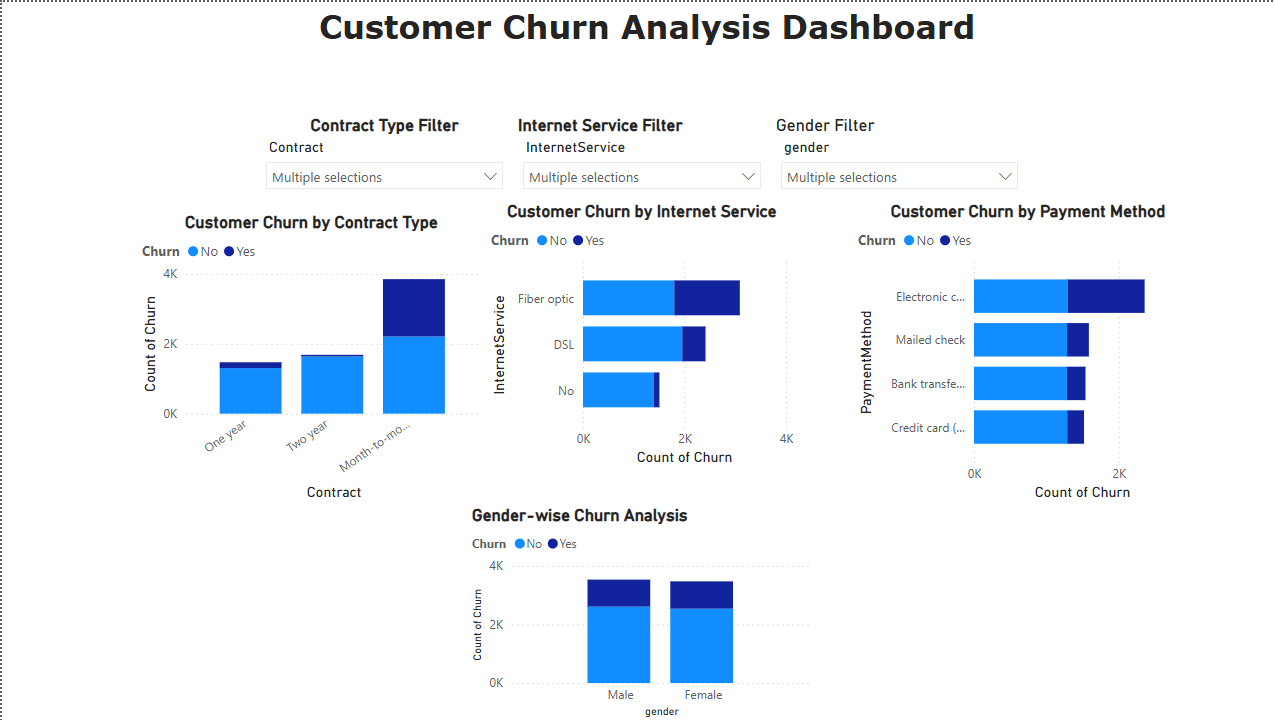

This screenshot's page, from the dashboard's own definition file:
{"tool":"powerbi","page":{"name":"Churn Analysis Dashboard","canvas":[1280,720],"ordinal":1},"visuals":[{"type":"textbox","box":[10,0,1270,51.2],"z":0},{"type":"slicer","title":"Contract Type Filter","fields":{"Values":["Churn_Dashboard_Data.Contract"]},"box":[253.8,112.5,257.5,195],"z":1000},{"type":"slicer","title":"Internet Service Filter","fields":{"Values":["Churn_Dashboard_Data.InternetService"]},"box":[511.2,112.5,257.5,195],"z":2000},{"type":"slicer","title":"Gender Filter","fields":{"Values":["Churn_Dashboard_Data.gender"]},"box":[768.8,112.5,257.5,195],"z":3000},{"type":"columnChart","title":"Customer Churn by Contract Type","fields":{"Category":["Churn_Dashboard_Data.Contract"],"Y":["CountNonNull(Churn_Dashboard_Data.Churn)"],"Series":["Churn_Dashboard_Data.Churn"]},"box":[135,210,348.8,292.5],"z":4000},{"type":"barChart","title":"Customer Churn by Internet Service","fields":{"Category":["Churn_Dashboard_Data.InternetService"],"Y":["CountNonNull(Churn_Dashboard_Data.Churn)"],"Series":["Churn_Dashboard_Data.Churn"]},"box":[483.8,198.8,312.5,268.8],"z":5000},{"type":"barChart","title":"Customer Churn by Payment Method","fields":{"Category":["Churn_Dashboard_Data.PaymentMethod"],"Y":["CountNonNull(Churn_Dashboard_Data.Churn)"],"Series":["Churn_Dashboard_Data.Churn"]},"box":[851.2,198.8,350,303.8],"z":6000},{"type":"columnChart","title":"Gender-wise Churn Analysis","fields":{"Category":["Churn_Dashboard_Data.gender"],"Y":["CountNonNull(Churn_Dashboard_Data.Churn)"],"Series":["Churn_Dashboard_Data.Churn"]},"box":[465,502.5,348.8,217.5],"z":7000}]}

Visuals, with their boxes in screenshot pixels (x1, y1, x2, y2), scaled from the page's 1280x720 canvas onto the 1275x720 screenshot:
textbox: (10, 0, 1274, 51)
"Contract Type Filter" slicer: (253, 112, 509, 308)
"Internet Service Filter" slicer: (509, 112, 766, 308)
"Gender Filter" slicer: (766, 112, 1022, 308)
"Customer Churn by Contract Type" columnChart: (134, 210, 482, 502)
"Customer Churn by Internet Service" barChart: (482, 199, 793, 468)
"Customer Churn by Payment Method" barChart: (848, 199, 1197, 503)
"Gender-wise Churn Analysis" columnChart: (463, 502, 811, 719)
